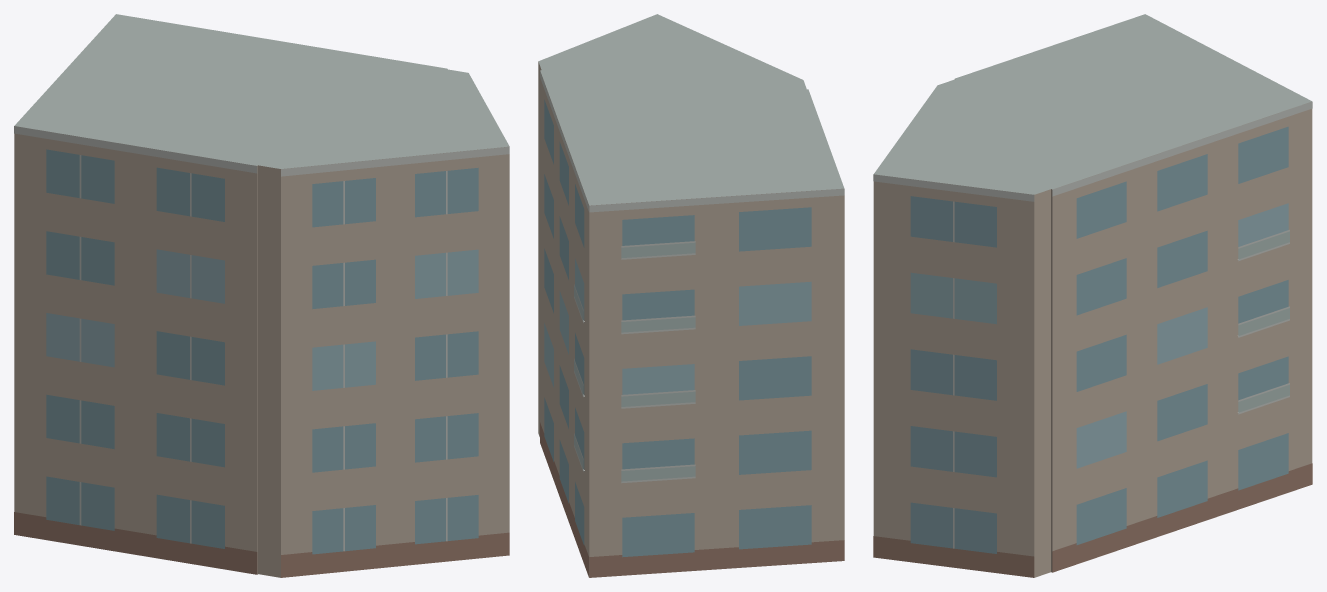
The model's file is survey-upis-32943293.glb.
The picture shows the model from 3 angles, left to right: view 1: azimuth 30°, elevation 25°; view 2: azimuth 150°, elevation 25°; view 3: azimuth 270°, elevation 25°; orthographic projection. The views are drawn at different scales.
Parts seen in each view (by area): view 1: survey-upis-32943293.tmp; view 2: survey-upis-32943293.tmp; view 3: survey-upis-32943293.tmp.
Part boxes in pixels (left/top/right/bottom): survey-upis-32943293.tmp: left=14, top=14, right=509, bottom=577; survey-upis-32943293.tmp: left=538, top=14, right=844, bottom=577; survey-upis-32943293.tmp: left=873, top=14, right=1312, bottom=577.
Bounding box in the file's own units: 13.37 × 13.2 × 13.72.
